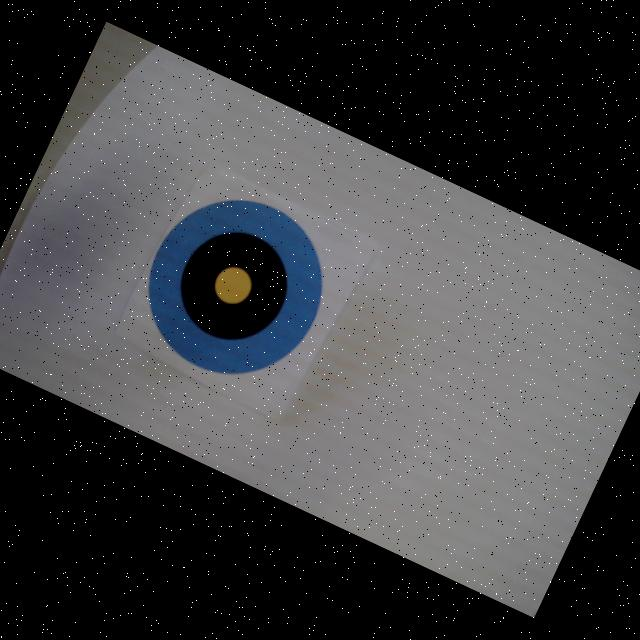COGNITIVE: (120, 171, 352, 406)
